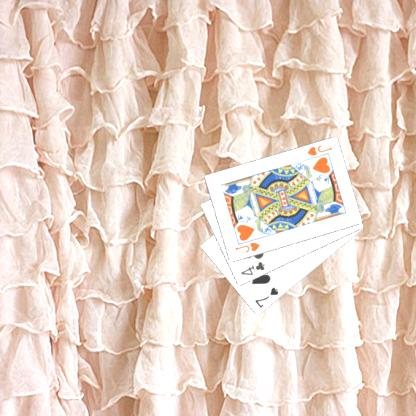4C: (237, 259, 266, 277)
7S: (252, 285, 280, 309)
JH: (304, 142, 333, 157), (232, 240, 261, 254)
